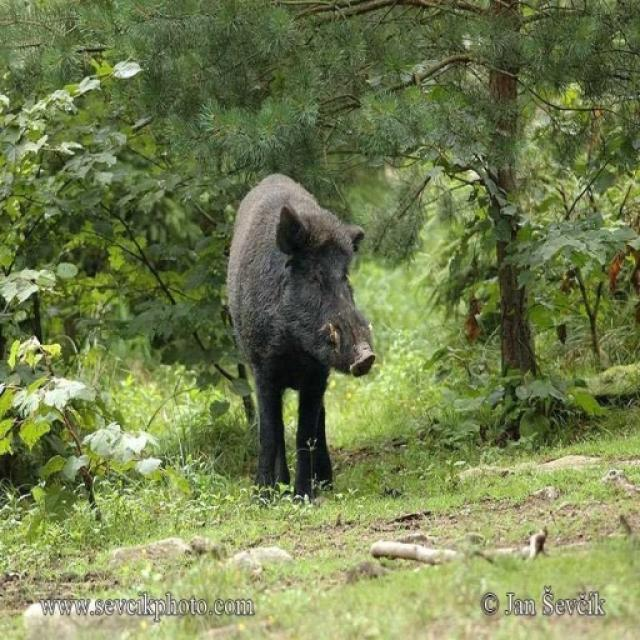pig: (200, 134, 490, 500)
